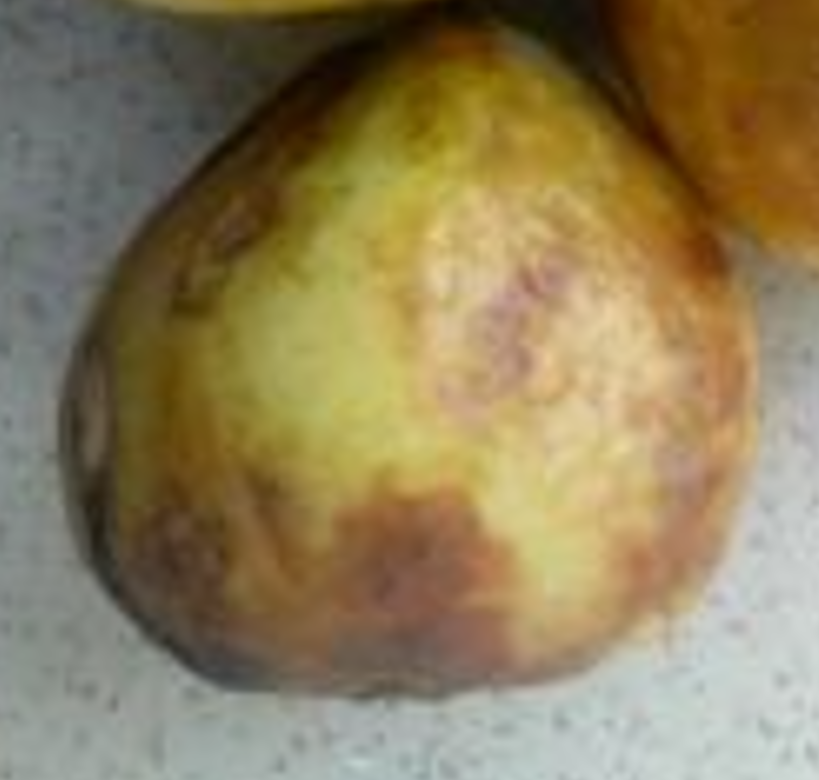guava_C: (60, 5, 761, 706)
